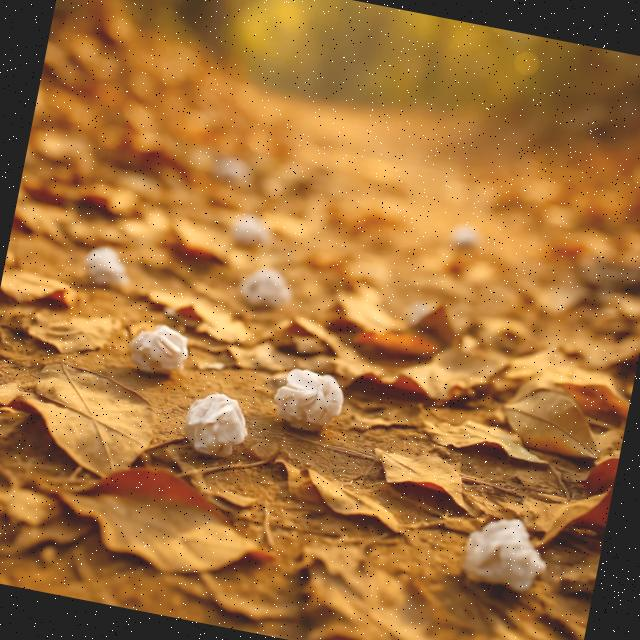paper: (460, 512, 550, 598), (272, 368, 348, 441), (178, 390, 252, 460), (122, 320, 192, 380)
